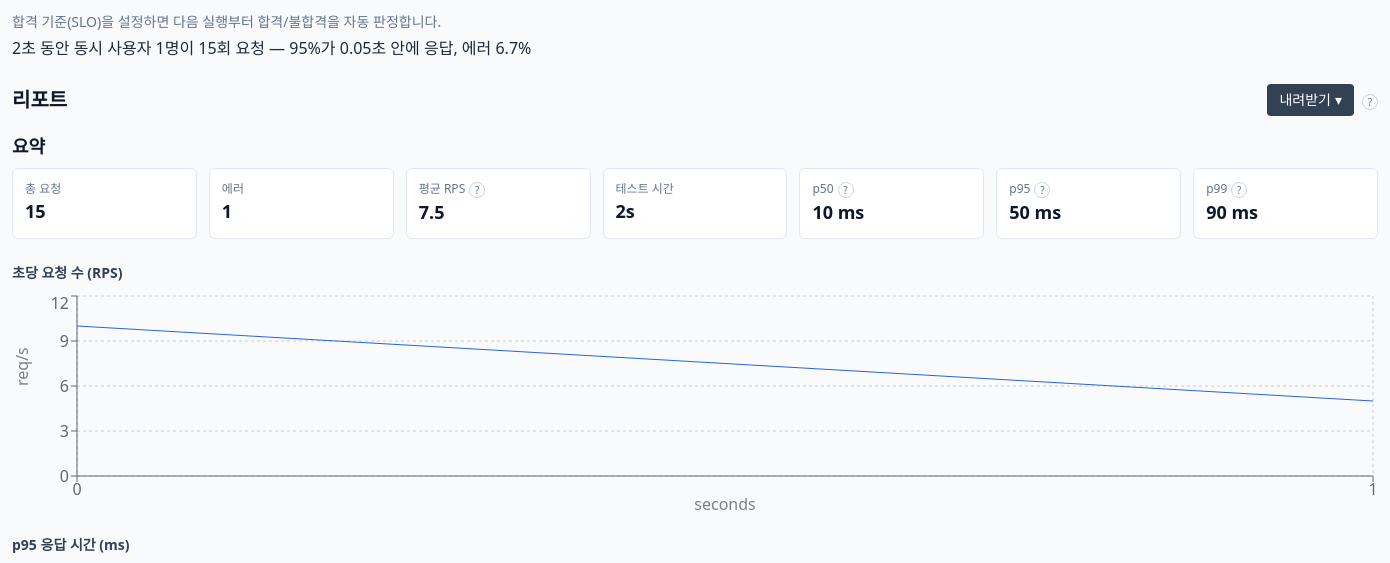
it: ReportView › download menu › collapses the 4 downloads into a single menu
Click the button "내려받기 ▾". click: (1311, 100)
box: [1267,84,1354,116]
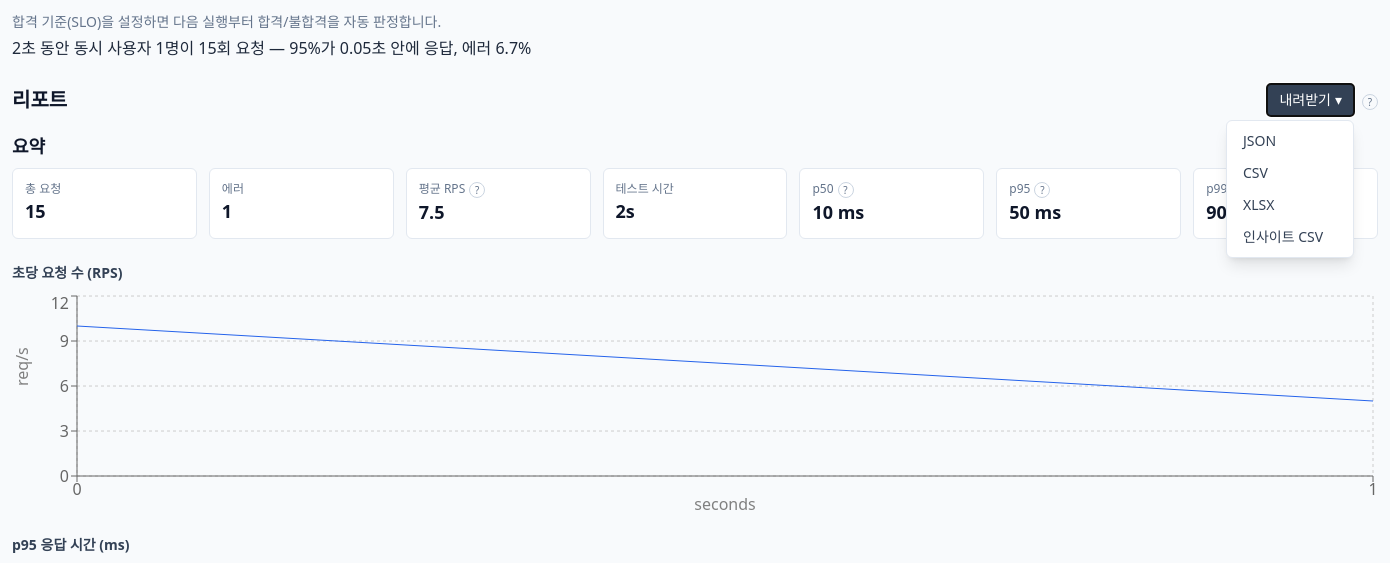
Check: the number of menu items is 4, box [1227,125,1353,157]; [1227,157,1353,189]; [1227,189,1353,221]; [1227,221,1353,253]
